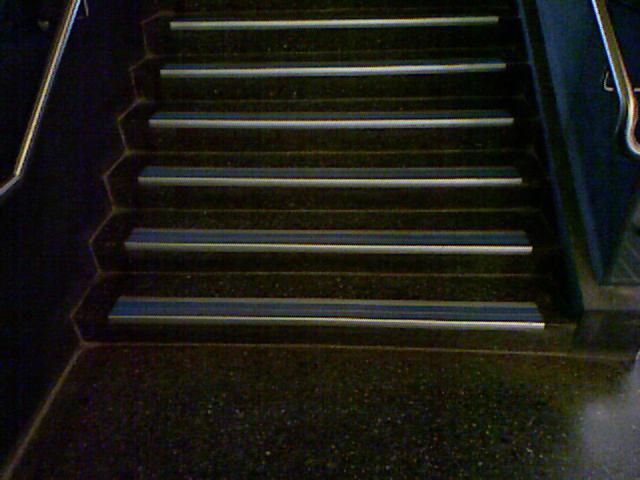Escaleras: (91, 8, 594, 335)
